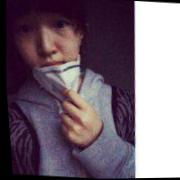WRONG: (6, 1, 89, 89)
